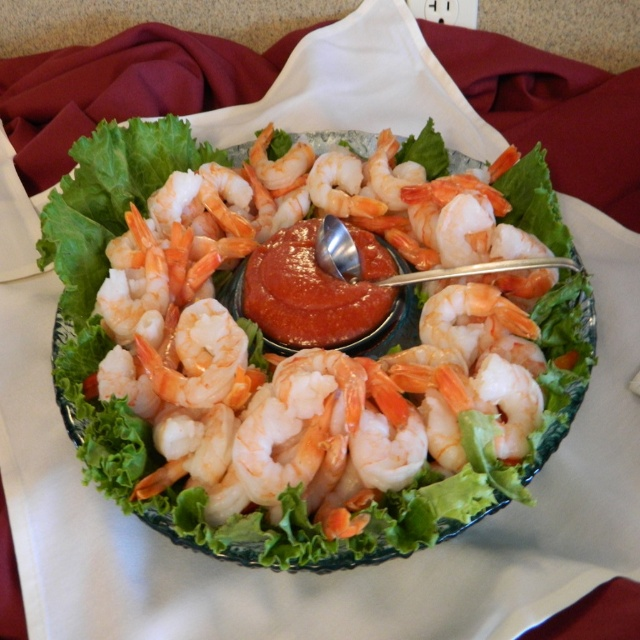Shrimp: (81, 125, 576, 542)
